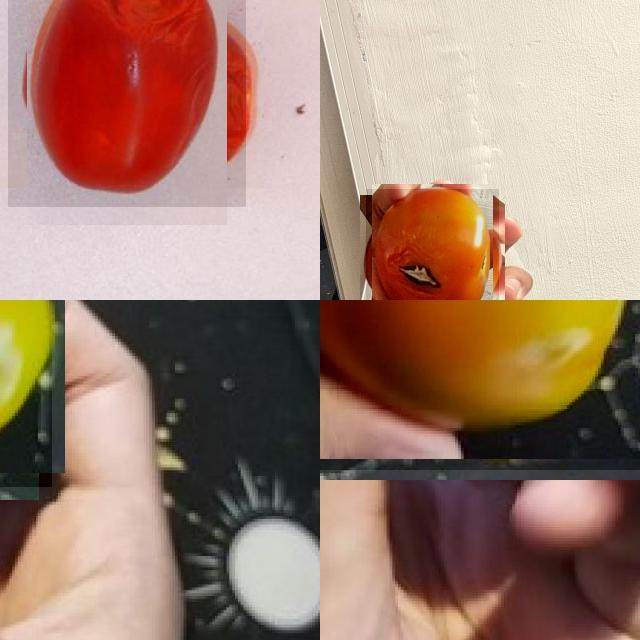Rotten Tomato: (320, 300, 640, 469), (8, 0, 245, 206), (365, 189, 499, 300)
